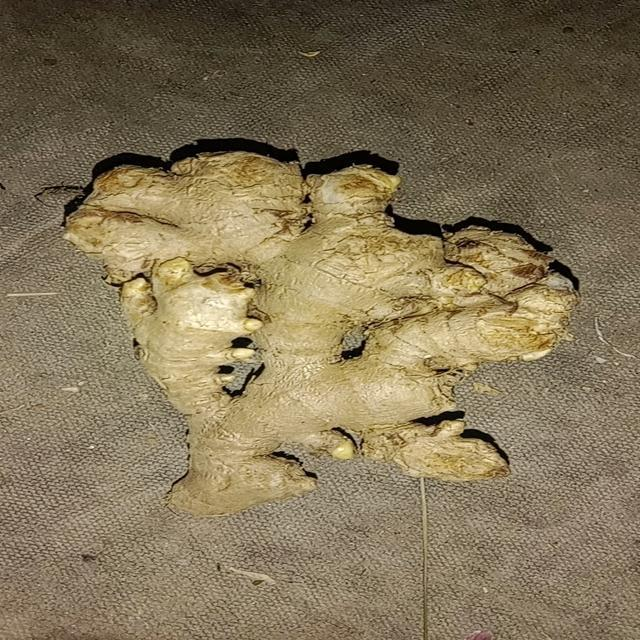ginger: (61, 148, 584, 522)
